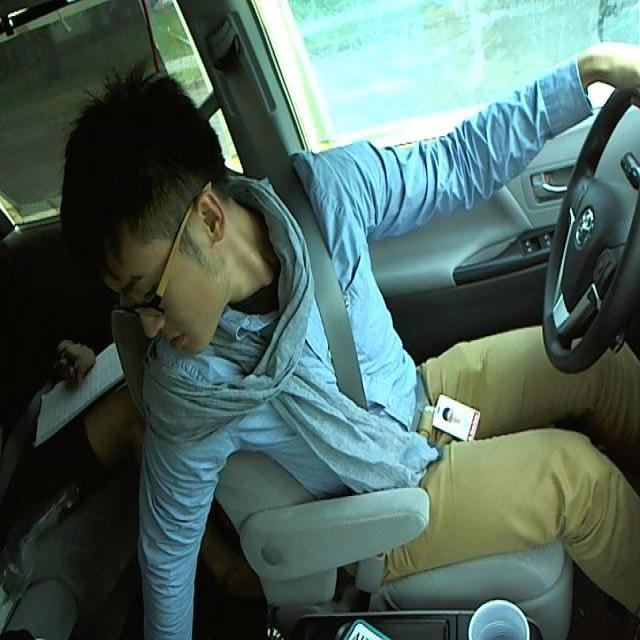seatbelt: (252, 158, 427, 506)
